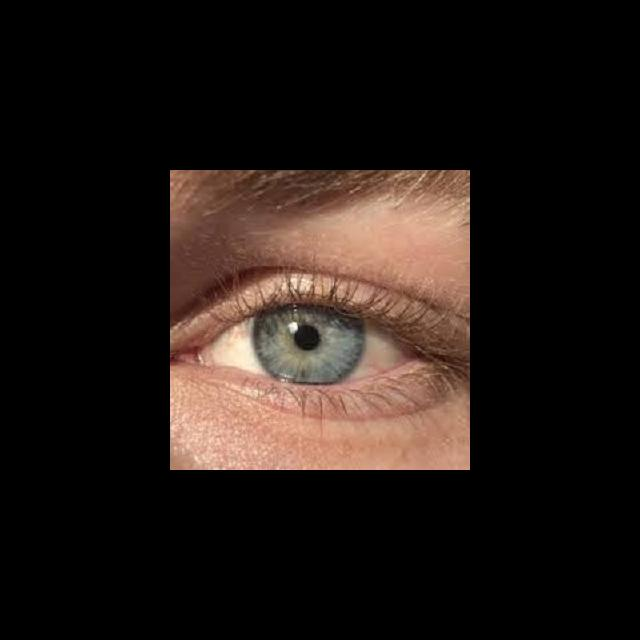eye: (202, 303, 420, 388)
iris: (252, 307, 364, 384)
